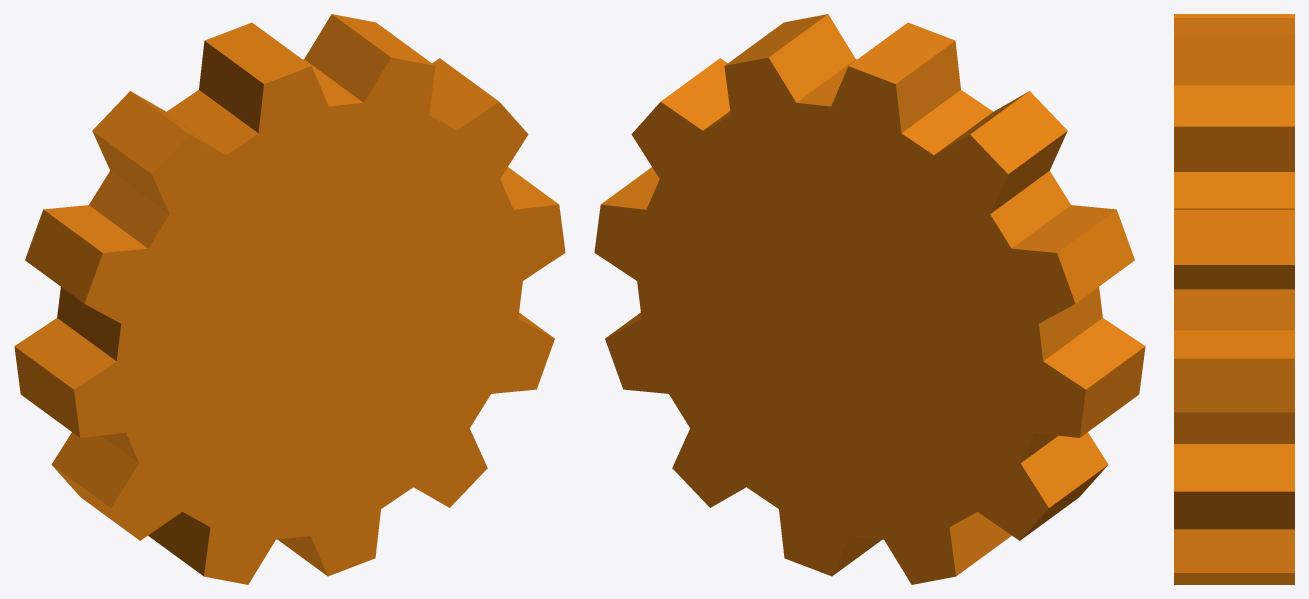
File: linkage_gear.glb
3 views of the same model, side by side, from view 1: azimuth 30°, elevation 25°; view 2: azimuth 150°, elevation 25°; view 3: azimuth 270°, elevation 25° (orthographic).
Visible parts, largest first — view 1: LinkageGear; view 2: LinkageGear; view 3: LinkageGear.
Boxes of the visible parts, <box> form: LinkageGear: <box>14,14,565,584</box>; LinkageGear: <box>594,14,1145,584</box>; LinkageGear: <box>1174,14,1294,584</box>.
Size of the model in its own units: 0.2382 by 0.2382 by 0.05.
